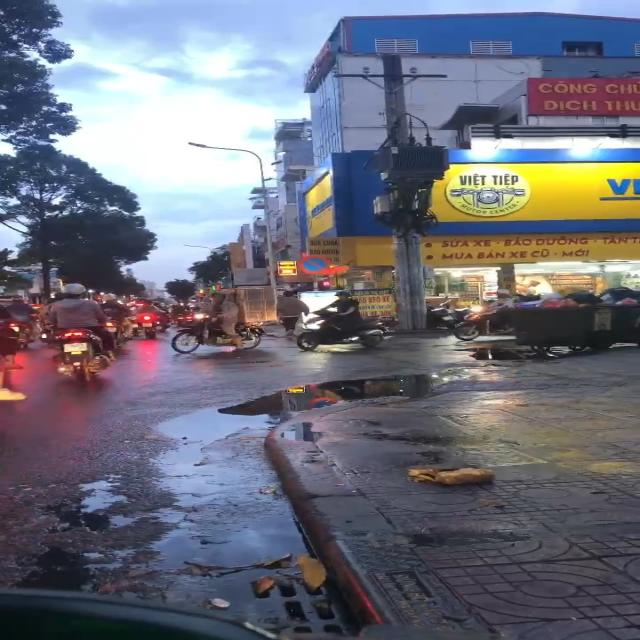Bien bao cam do xe: (297, 254, 334, 276)
